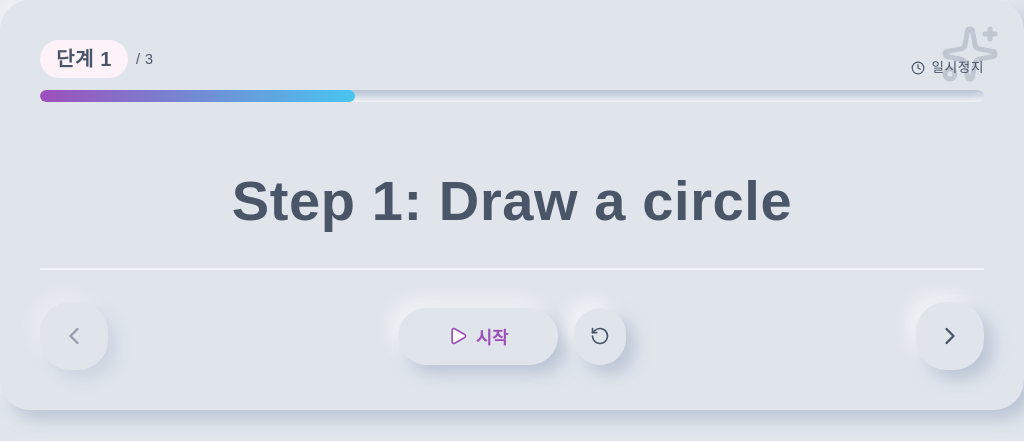
InstructionViewer Component › should advance to the next step after interval when started
Start playing
Click the button "시작". click: (478, 336)
box: [398, 308, 558, 365]
Wait 5500 ms
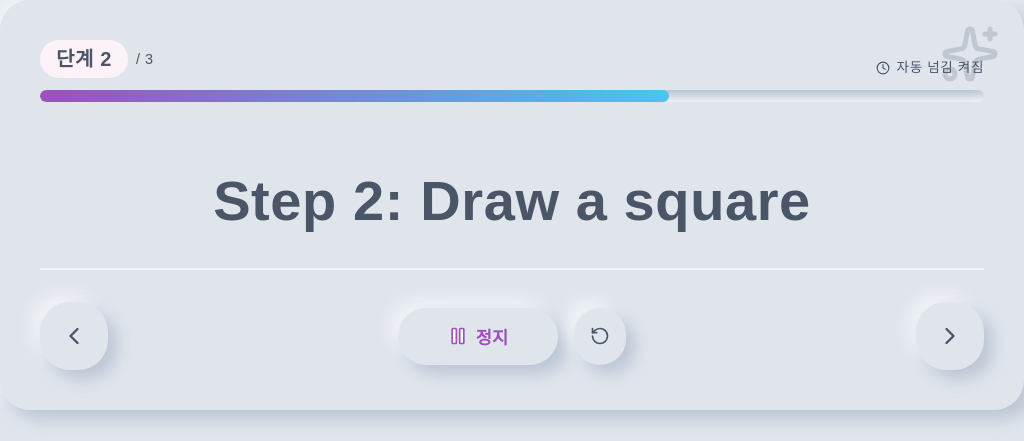
Now the heading "Step 2: Draw a square" is shown, box [213, 166, 811, 236]
